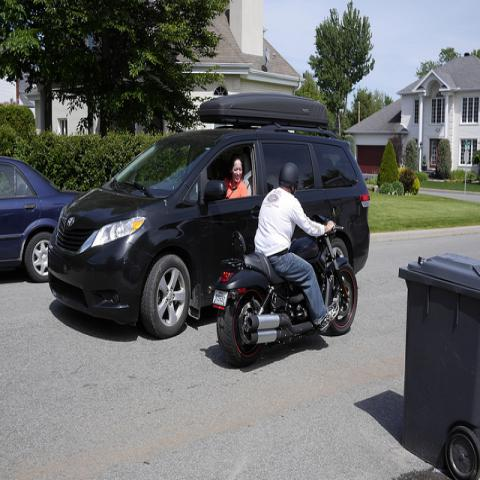car: (47, 96, 372, 342), (0, 157, 84, 282)
motorcycle: (213, 227, 359, 366)
